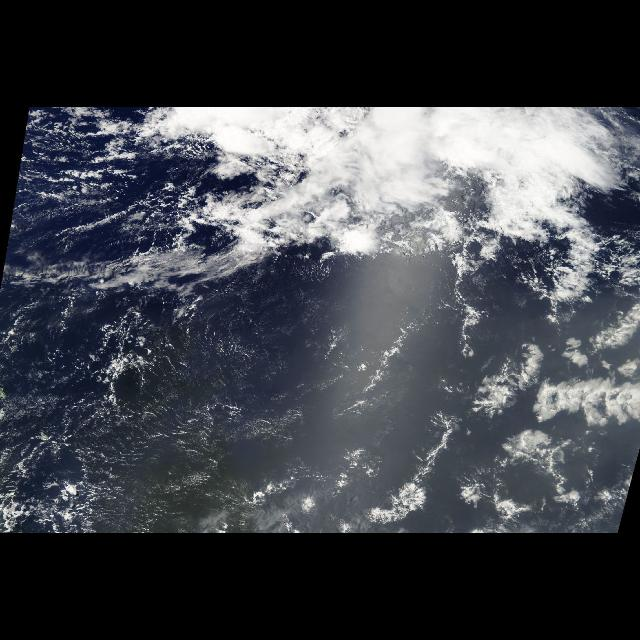Gravel: (2, 186, 206, 530)
Sugar: (2, 264, 434, 532)
